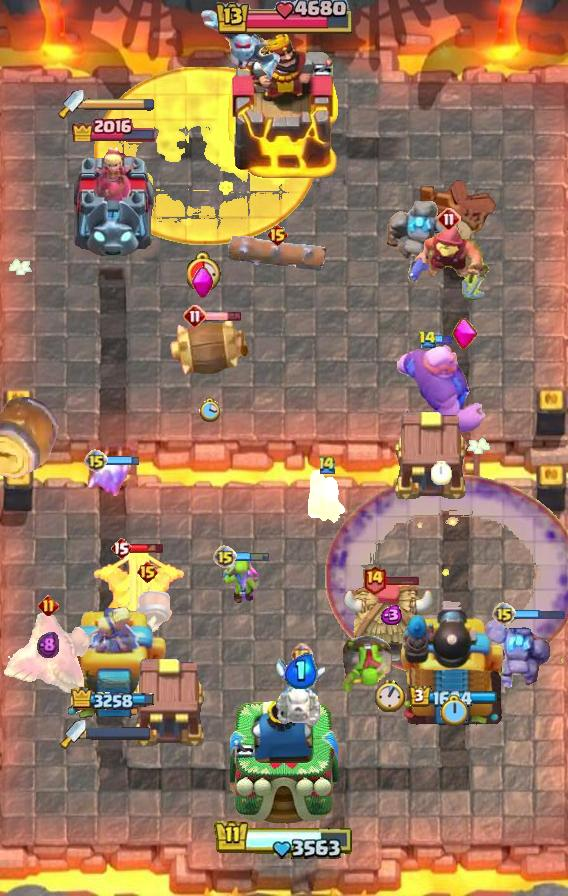balloon: (394, 343, 488, 435)
bar: (60, 607, 168, 731), (70, 142, 158, 256)
bar-level: (339, 634, 393, 696)
bomb: (392, 408, 472, 502), (130, 655, 210, 749)
clock: (214, 819, 354, 861), (213, 0, 355, 38)
dirt: (0, 394, 62, 480)
electro-spirit: (285, 655, 319, 689), (37, 631, 59, 659), (378, 605, 403, 625)
elixir: (186, 251, 222, 291), (375, 680, 405, 713), (441, 695, 468, 726), (199, 397, 220, 423), (431, 461, 453, 485)
elixir-golem-small: (197, 7, 283, 85)
emote: (514, 608, 566, 621), (234, 551, 270, 563), (384, 574, 420, 586), (130, 542, 165, 554), (205, 311, 242, 322), (105, 455, 141, 466), (434, 334, 454, 345)
fireball: (406, 225, 492, 303)
king-tower: (226, 33, 342, 181), (230, 698, 338, 826)
king-tower-bar: (84, 97, 156, 111), (86, 727, 150, 740)
knight: (122, 588, 172, 652)
lava-pup: (90, 545, 188, 627)
mini-pekka: (274, 656, 328, 728)
minion: (228, 236, 326, 272)
mirror: (83, 458, 133, 496)
mother-witch: (0, 610, 96, 704)
phoenix-egg: (92, 67, 316, 245)
prince: (343, 581, 437, 671)
rocket: (324, 475, 567, 679)
selected: (70, 114, 157, 141), (71, 687, 157, 713), (410, 685, 499, 708)
skeleton-king-skill: (452, 317, 480, 351), (190, 266, 214, 300)
text: (362, 564, 387, 595), (437, 207, 461, 231), (183, 304, 207, 328), (84, 449, 108, 473), (213, 545, 237, 569), (492, 602, 516, 626), (267, 223, 290, 247), (136, 560, 159, 584), (290, 643, 313, 666), (110, 536, 132, 560), (37, 595, 59, 616), (317, 453, 337, 475), (418, 330, 438, 349)
the-log: (167, 315, 251, 377)
tombstone: (306, 467, 348, 525)
tower-bar: (397, 595, 509, 731)
valkyrie-evolution: (387, 201, 463, 279), (485, 617, 551, 689)
zap: (221, 553, 263, 605)
